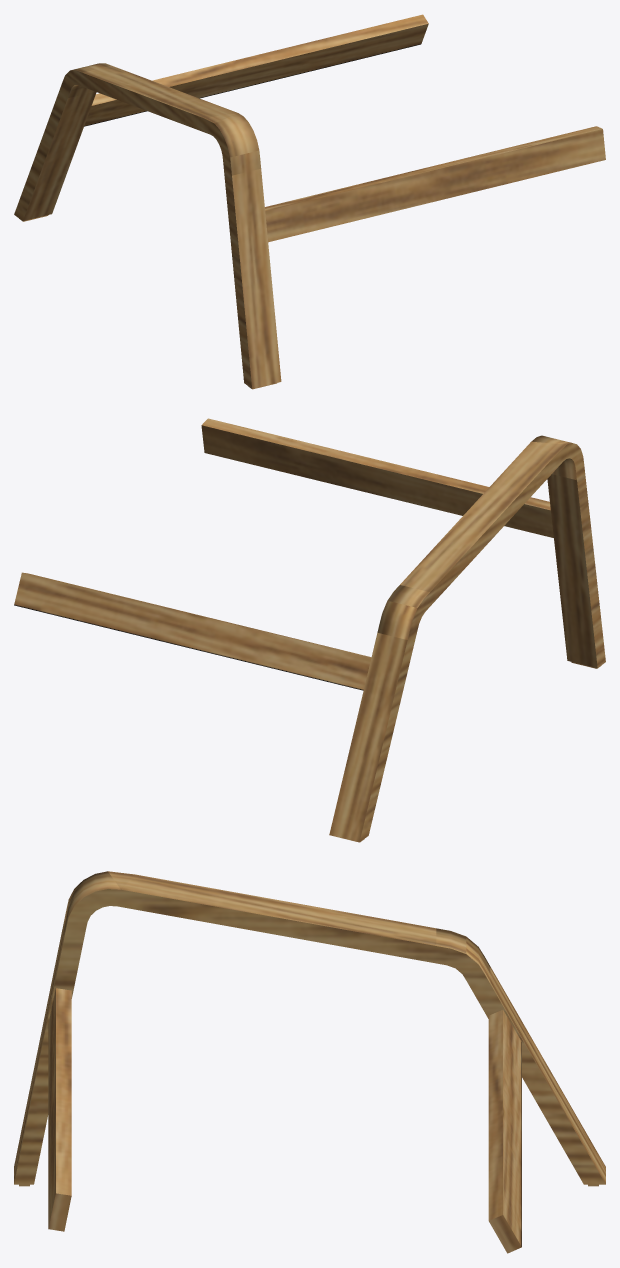
The model's file is conjoinedPiece2.dae.
The picture shows the model from 3 angles, top to bottom: view 1: azimuth 30°, elevation 25°; view 2: azimuth 150°, elevation 25°; view 3: azimuth 270°, elevation 25°; orthographic projection. The views are drawn at different scales.
Visible parts, largest first — view 1: _0233532_NOLMYRA003; view 2: _0233532_NOLMYRA003; view 3: _0233532_NOLMYRA003.
Part boxes in pixels (left/top/right/bottom): _0233532_NOLMYRA003: left=14, top=14, right=605, bottom=389; _0233532_NOLMYRA003: left=14, top=418, right=605, bottom=842; _0233532_NOLMYRA003: left=14, top=871, right=605, bottom=1253.
Bounding box in the file's own units: 1.02 × 1.14 × 0.6363.
Materials: 1 (1 with a texture image).
